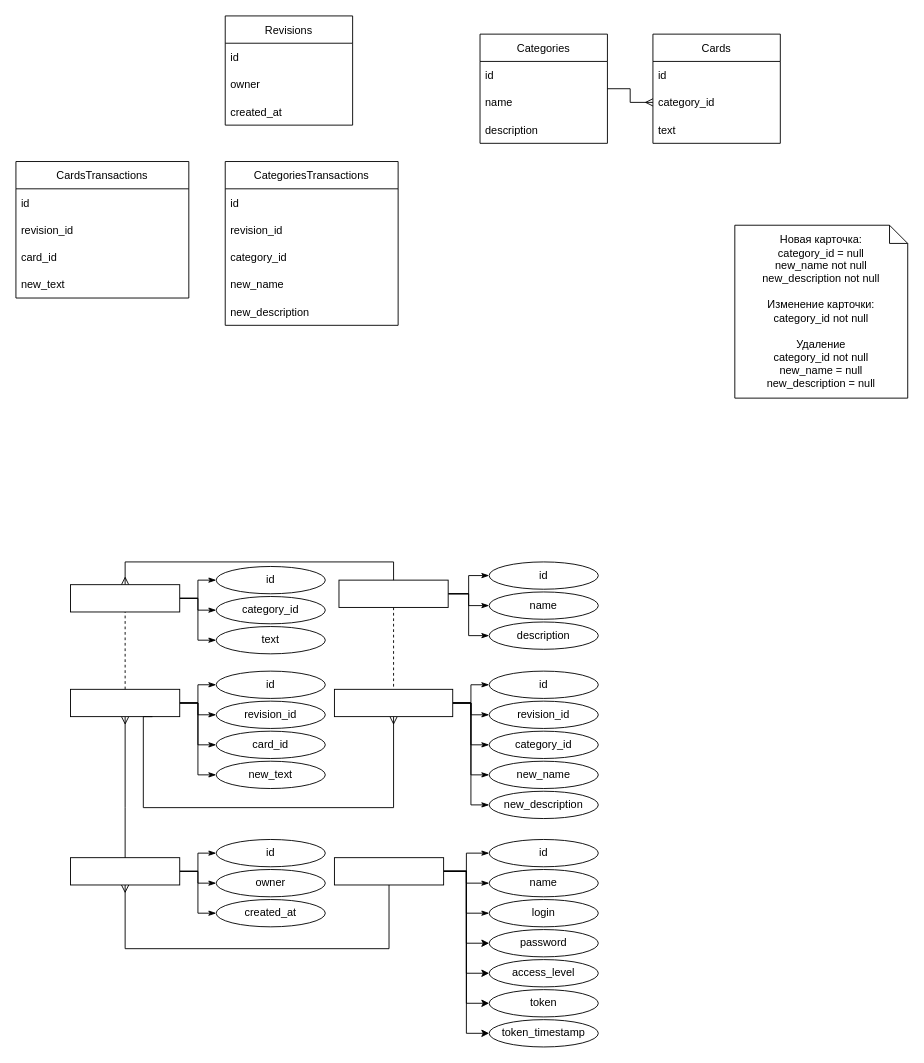
The diagram is 924 pixels wide and 1063 high, and some of its shapes have lost their labels. Each missing label, with the centre of its shape:
Card: (125,598)
CardsTransaction: (125,702)
Category: (393,593)
CategoryTransaction: (393,702)
Revision: (125,871)
User: (389,871)
